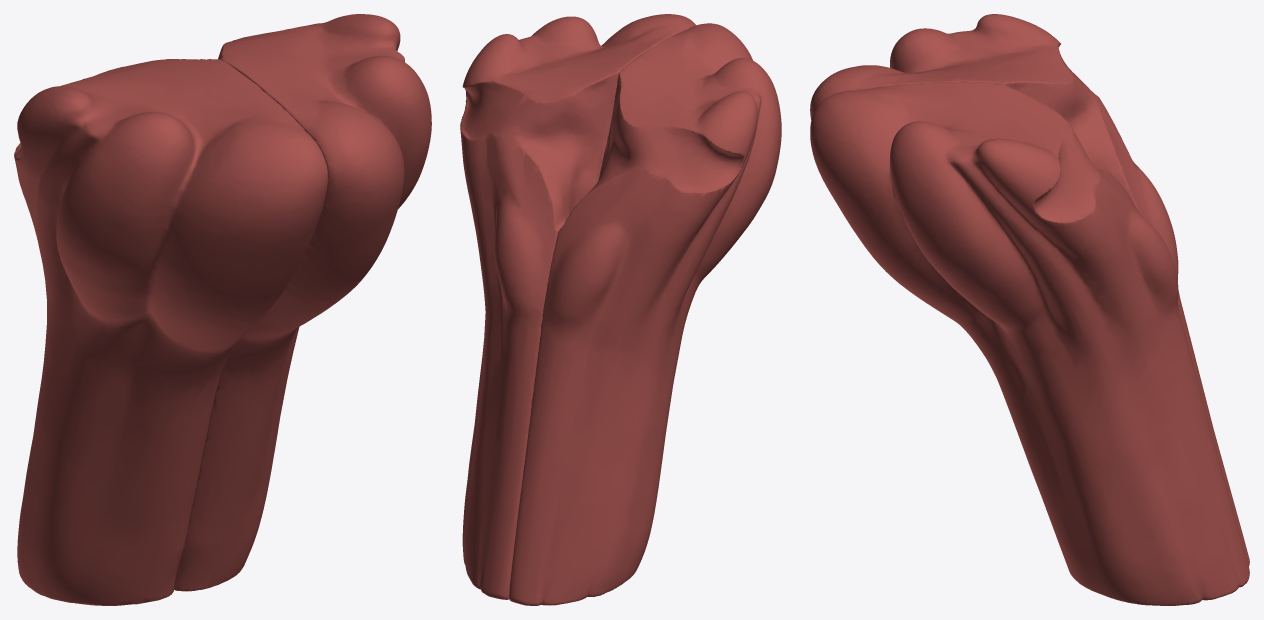
Rendered from FMA62004.glb.
The picture shows the model from 3 angles, left to right: view 1: azimuth 30°, elevation 25°; view 2: azimuth 150°, elevation 25°; view 3: azimuth 270°, elevation 25°; orthographic projection. The views are drawn at different scales.
Visible parts, largest first — view 1: FMA62004; view 2: FMA62004; view 3: FMA62004.
Boxes of the visible parts, x1,y1,x2,y2 form: FMA62004: (14,14,431,605); FMA62004: (460,14,781,605); FMA62004: (810,14,1249,605).
Size of the model in its own units: 0.0252 by 0.039 by 0.0313.
